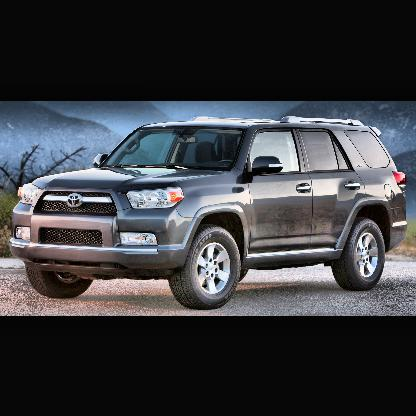Toyota 4Runner SUV 2012: (10, 114, 413, 313)
